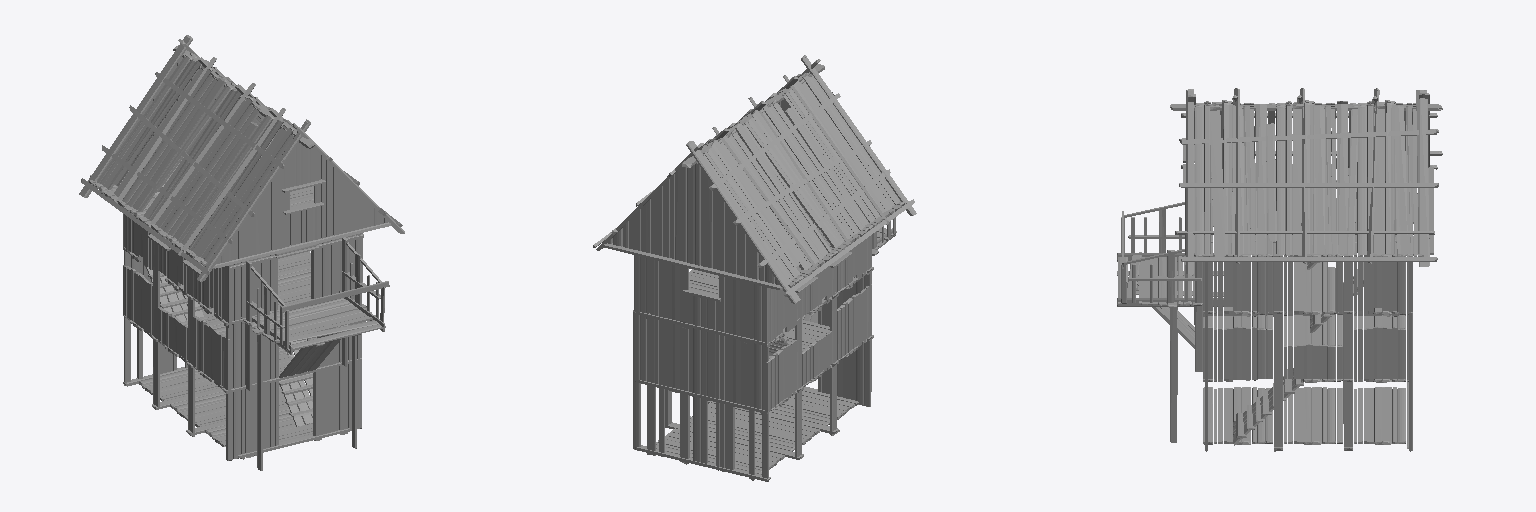
The model's file is -LOD1_z_hut_004.obj.
3 renders of one model, left to right at view 1: azimuth 30°, elevation 25°; view 2: azimuth 150°, elevation 25°; view 3: azimuth 270°, elevation 25°, orthographic.
Visible parts, largest first — view 1: Cube.009_Cube.010; view 2: Cube.009_Cube.010; view 3: Cube.009_Cube.010.
Boxes of the visible parts, x1=… form: Cube.009_Cube.010: x1=79, y1=35, x2=404, y2=470; Cube.009_Cube.010: x1=593, y1=55, x2=916, y2=481; Cube.009_Cube.010: x1=1117, y1=88, x2=1442, y2=451.
Size of the model in its own units: 8 by 12.3 by 10.98.